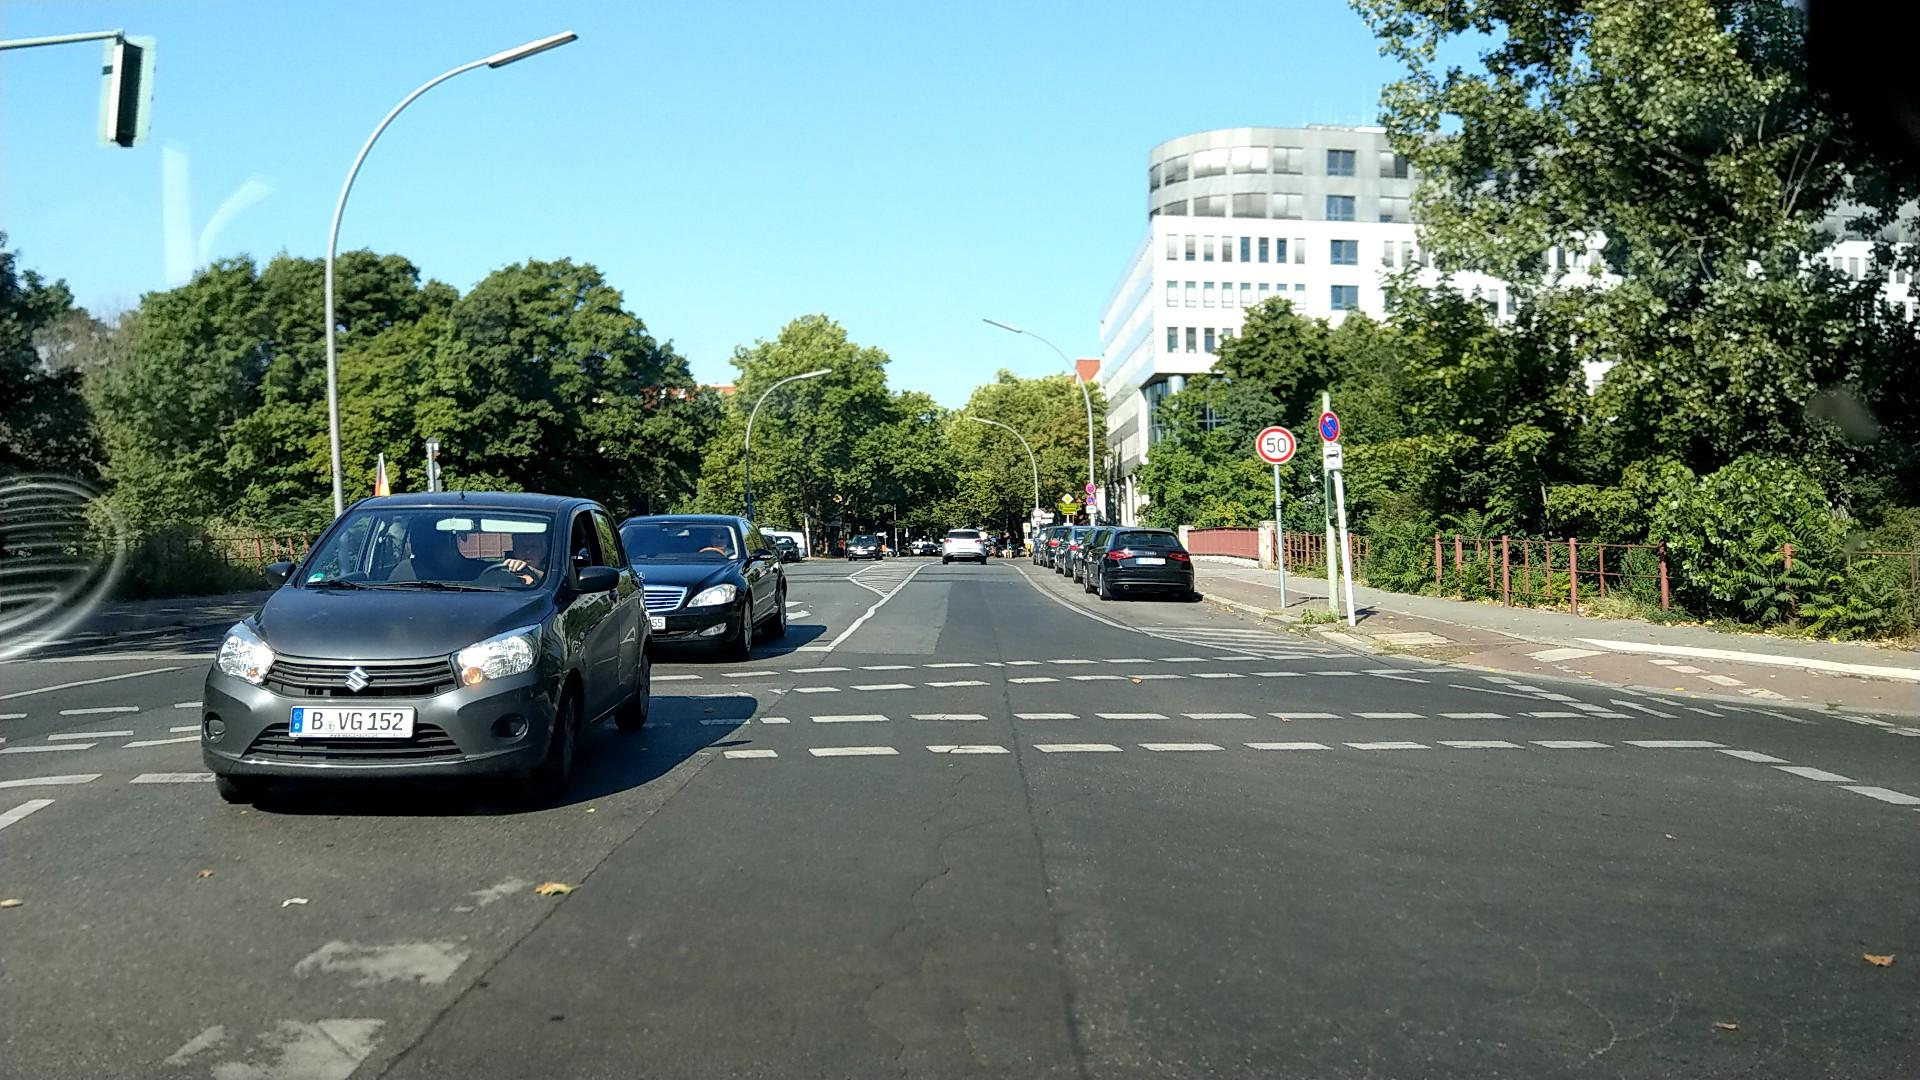Human face: (508, 530, 551, 570), (708, 530, 728, 551)
Vehicle registration plate: (292, 709, 418, 740), (1136, 557, 1165, 565)
